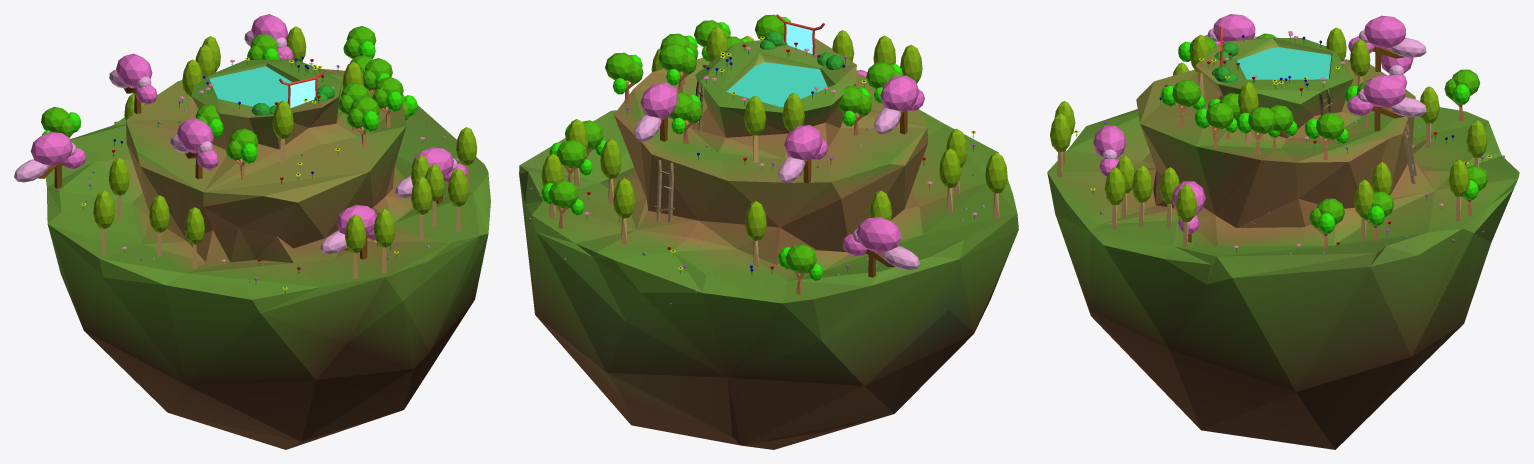
3 renders of one model, left to right at view 1: azimuth 30°, elevation 25°; view 2: azimuth 150°, elevation 25°; view 3: azimuth 270°, elevation 25°, orthographic. The views are drawn at different scales.
Visible parts, largest first — view 1: Island, Water.021, Tree3 - 2.034, Tree3 - 2.037, Tree3 - 2.036, Tree3 - 2.032, Tree3 - 2.033, Tree3 - 2.035, Tree1 - 2.037, Tree1 - 2.041, Tree1 - 2.043, Tree1 - 2.035 (+19 smaller); view 2: Island, Water.021, Tree3 - 2.034, Tree3 - 2.037, Tree3 - 2.036, Tree3 - 2.035, Tree1 - 2.040, Tree1 - 2.042, Tree1 - 2.035, Tree1 - 2.034, Tree1 - 2.038, Tree1 - 2.044 (+21 smaller); view 3: Island, Water.021, Tree3 - 2.035, Tree3 - 2.036, Tree3 - 2.032, Tree1 - 2.040, Tree1 - 2.037, Tree3 - 2.037, Tree1 - 2.043, Tree1 - 2.036, Tree1 - 2.035, Tree1 - 2.032 (+20 smaller).
Boxes of the visible parts, <box> form: Island: <box>45,59,490,449</box>; Water.021: <box>209,66,292,107</box>; Tree3 - 2.034: <box>14,132,86,188</box>; Tree3 - 2.037: <box>170,118,218,179</box>; Tree3 - 2.036: <box>109,53,157,113</box>; Tree3 - 2.032: <box>320,204,377,259</box>; Tree3 - 2.033: <box>395,147,467,203</box>; Tree3 - 2.035: <box>244,14,293,59</box>; Tree1 - 2.037: <box>347,96,379,148</box>; Tree1 - 2.041: <box>226,128,258,180</box>; Tree1 - 2.043: <box>372,77,403,128</box>; Tree1 - 2.035: <box>41,107,81,137</box>; Island: <box>519,38,1018,449</box>; Water.021: <box>726,62,827,107</box>; Tree3 - 2.034: <box>842,217,919,277</box>; Tree3 - 2.037: <box>874,75,924,134</box>; Tree3 - 2.036: <box>778,125,828,183</box>; Tree3 - 2.035: <box>634,82,677,141</box>; Tree1 - 2.040: <box>605,52,643,103</box>; Tree1 - 2.042: <box>658,43,696,92</box>; Tree1 - 2.035: <box>778,244,822,294</box>; Tree1 - 2.034: <box>541,180,584,228</box>; Tree1 - 2.038: <box>837,86,871,135</box>; Tree1 - 2.044: <box>668,92,702,143</box>; Island: <box>1047,37,1519,449</box>; Water.021: <box>1237,47,1331,79</box>; Tree3 - 2.035: <box>1347,74,1426,131</box>; Tree3 - 2.036: <box>1348,15,1426,71</box>; Tree3 - 2.032: <box>1093,125,1126,176</box>; Tree1 - 2.040: <box>1305,112,1348,159</box>; Tree1 - 2.037: <box>1161,79,1204,127</box>; Tree3 - 2.037: <box>1204,14,1256,45</box>; Tree1 - 2.043: <box>1195,102,1237,148</box>; Tree1 - 2.036: <box>1237,107,1280,154</box>; Tree1 - 2.035: <box>1444,69,1479,120</box>; Tree1 - 2.032: <box>1309,198,1344,248</box>.
Bounding box in the file's own units: 41.96 × 39.87 × 43.73.
